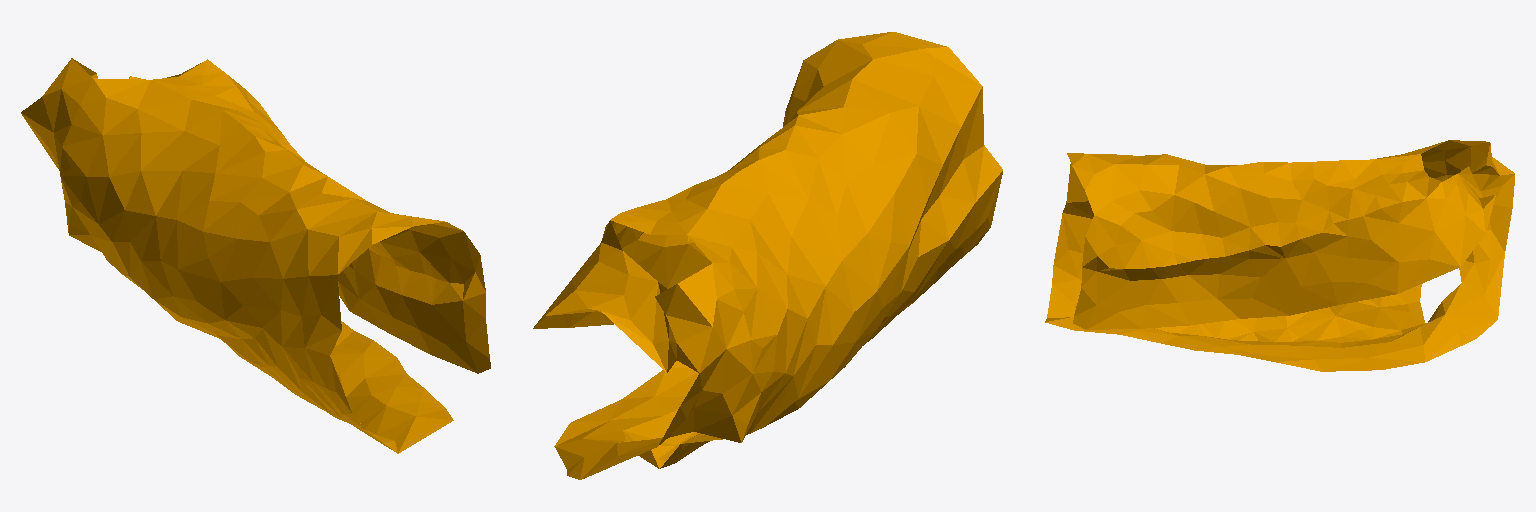
robot.urdf — init:
<?xml version='1.0' encoding='utf-8'?>
<robot name="init">
<link name="link_0"><inertial><mass value="1.0" /><origin rpy="0 0 0" xyz="0.000000 0.000000 0.000000" /><inertia ixx="1.0" ixy="0.0" ixz="0.0" iyy="1.0" iyz="0.0" izz="1.0" /></inertial><visual><origin rpy="0 0 0" xyz="0.000000 0.000000 0.000000" /><geometry><mesh filename="./clothHuman/cloth/2949.obj" /></geometry></visual><collision><origin rpy="0 0 0" xyz="0.000000 0.000000 0.000000" /><geometry><mesh filename="./clothHuman/cloth/2949.obj" /></geometry></collision></link></robot>

--- Facts derived from the render (not from the file) ---
Views: 3 orthographic renders of the robot side by side, from view 1: azimuth 30°, elevation 25°; view 2: azimuth 150°, elevation 25°; view 3: azimuth 270°, elevation 25°.
Model init with 1 links and 0 joints (none), rooted at link_0, posed all joints at 0.
Links seen in each view (by area): view 1: link_0; view 2: link_0; view 3: link_0.
Boxes of the visible links, x1=… form: link_0: x1=21, y1=58, x2=490, y2=453; link_0: x1=533, y1=32, x2=1002, y2=479; link_0: x1=1045, y1=140, x2=1514, y2=371.
Bounding box of the posed robot: 1.52 × 3.93 × 1.65 m (x, y, z).
Meshes: 1 distinct files referenced, 1 mesh visuals loaded (1 OBJ).